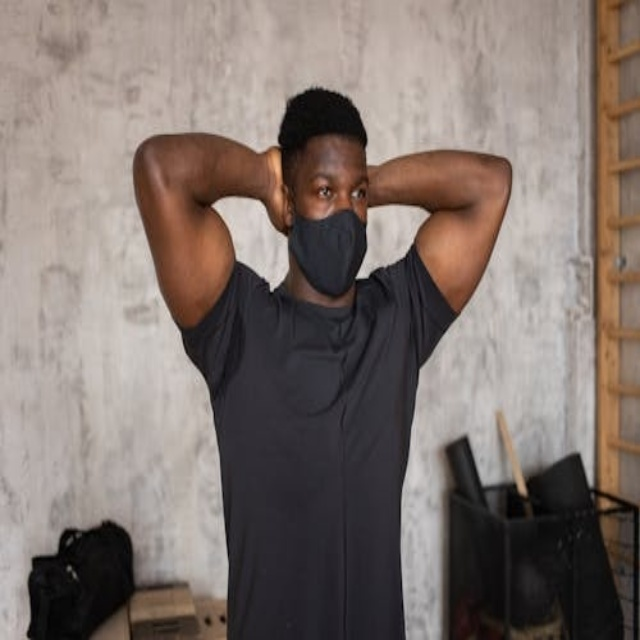Mascara: (289, 207, 367, 295)
Sin_gafas: (316, 185, 333, 199), (351, 187, 366, 201)
